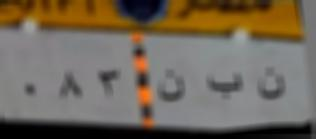0: (16, 78, 43, 108)
3: (95, 61, 128, 103)
8: (55, 66, 85, 109)
baa: (205, 65, 248, 100)
noon: (153, 62, 189, 110), (253, 62, 289, 106)
